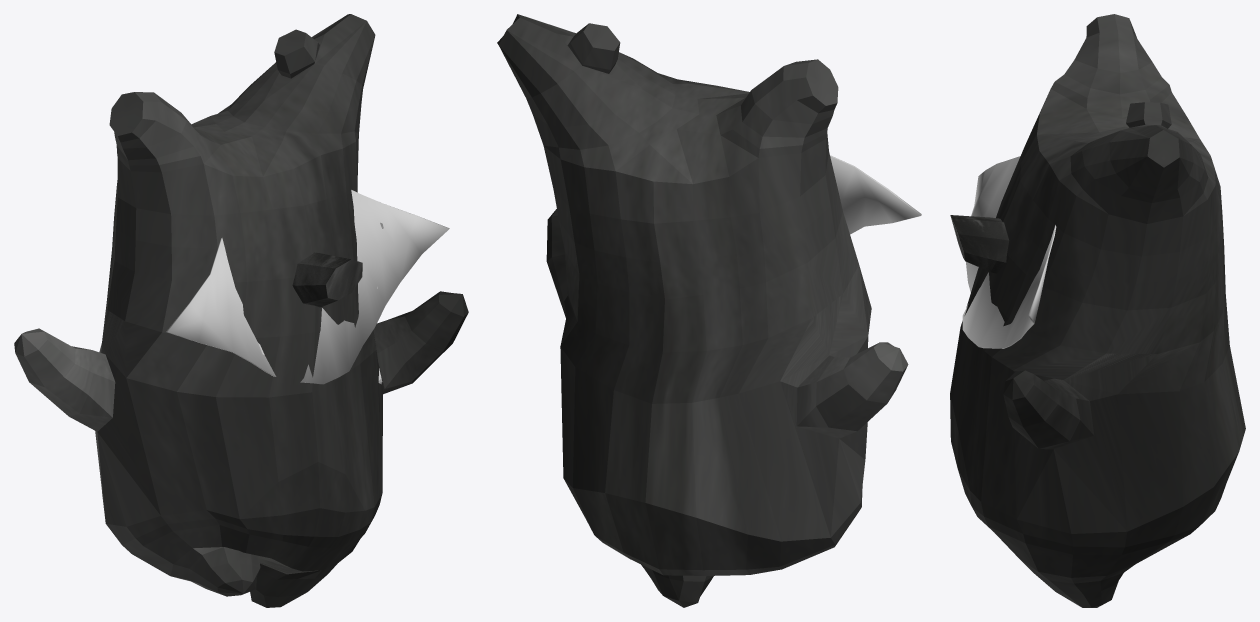
The model's file is frame_0012.obj.
3 renders of one model, left to right at view 1: azimuth 30°, elevation 25°; view 2: azimuth 150°, elevation 25°; view 3: azimuth 270°, elevation 25°, orthographic. The views are drawn at different scales.
Parts seen in each view (by area): view 1: korok, leaf, nose; view 2: korok, leaf; view 3: korok, leaf, nose.
Boxes of the visible parts, bbox=[...] form: korok: bbox=[14, 14, 468, 607]; leaf: bbox=[166, 190, 449, 384]; nose: bbox=[292, 252, 362, 307]; korok: bbox=[497, 14, 908, 607]; leaf: bbox=[830, 155, 921, 234]; korok: bbox=[950, 14, 1245, 607]; leaf: bbox=[962, 156, 1056, 348]; nose: bbox=[950, 215, 1009, 273].
Size of the model in its own units: 1.69 by 2.25 by 1.12.
